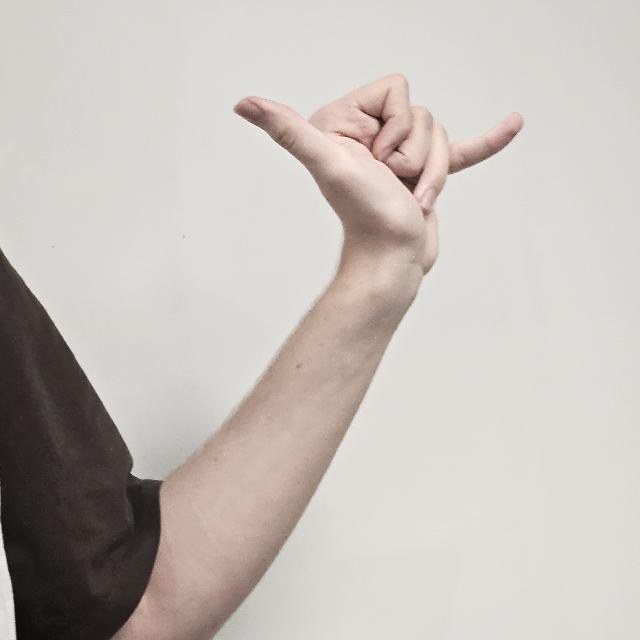Direita: (225, 53, 541, 291)
